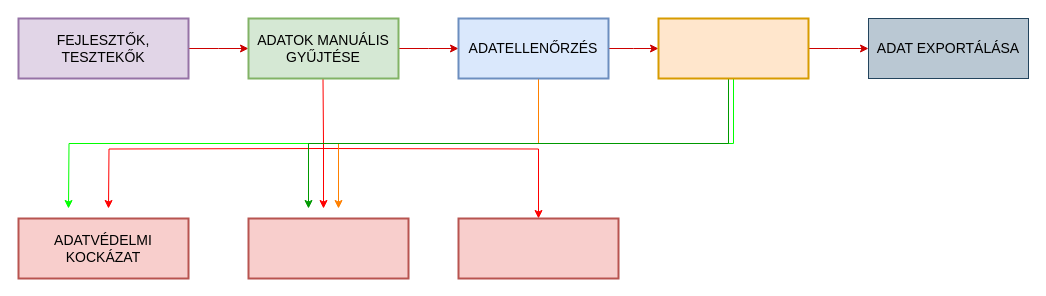
Image size: 1046x296. Some labels were removed from this diagram. The box of each missing label's shape, as (x1, y1, x2, y2) in pixels:
ADAT MANIPULÁLÁSA: (657, 17, 809, 79)
LASSÚ: (247, 217, 409, 279)
VÁLASZTÉKOS ADATOK HIÁNYA: (457, 217, 619, 279)
